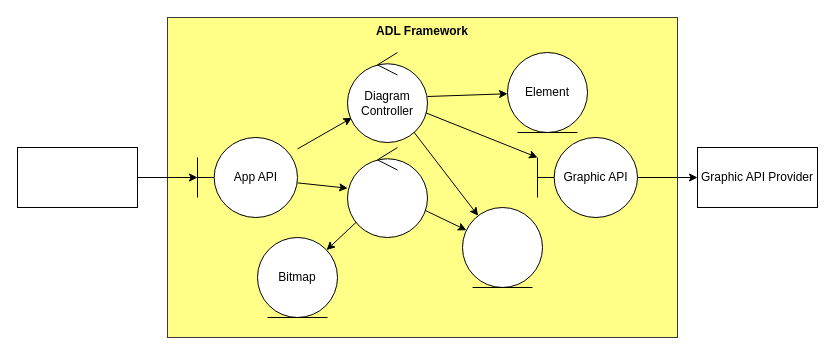
Some shapes in this 835 by 355 pixel diagram are drawn without their labels. Here are the shapes that lost their labels. From the top down, the box of each, then its label:
(16, 146, 138, 208): ADL Application
(346, 146, 428, 238): Bitmap Controller
(462, 206, 542, 288): Diagram
